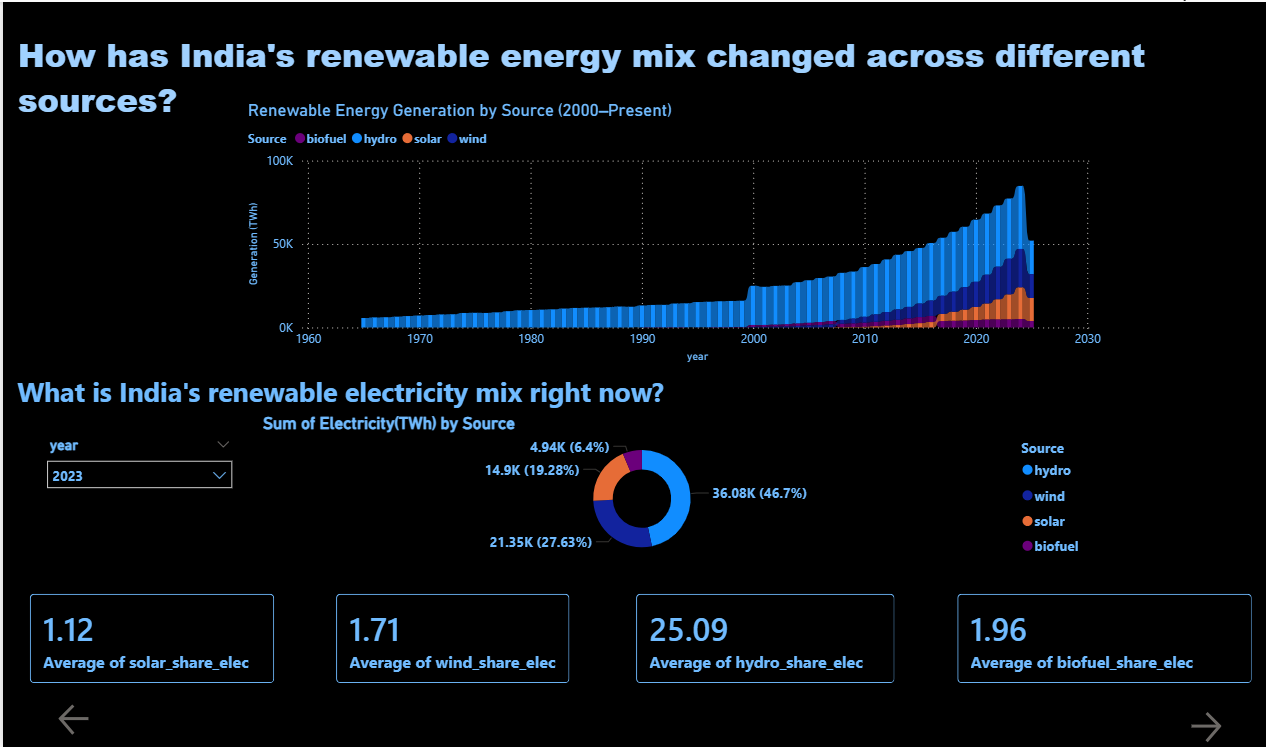

The page's visual inventory and layout, read from the dashboard file:
{"tool":"powerbi","page":{"name":"ENERGY MIX","canvas":[1280,720],"ordinal":2},"visuals":[{"type":"textbox","box":[10.3,0,1270,145.2],"z":0},{"type":"ribbonChart","title":"Renewable Energy Generation by Source (2000–Present)","fields":{"Y":["Sum(Energy Mix.Electricity)"],"Series":["Energy Mix.Source"],"Category":["Energy Mix.year"]},"box":[239.4,72.9,862.5,267.7],"z":1000},{"type":"textbox","box":[8.9,340.5,1271.4,44.6],"z":2000},{"type":"donutChart","title":"Sum of Electricity(TWh) by Source","fields":{"Y":["Sum(Energy Mix.Electricity)"],"Category":["Energy Mix.Source"]},"box":[254.3,385.1,834.2,151.7],"z":3000},{"type":"slicer","fields":{"Values":["Energy Mix.year"]},"box":[34.2,404.5,205.2,74.3],"z":4000},{"type":"cardVisual","fields":{"Data":["Avg(owid-energy-data.solar_share_elec)"]},"box":[10.4,548.7,278.1,123.4],"z":5000},{"type":"cardVisual","fields":{"Data":["Avg(owid-energy-data.wind_share_elec)"]},"box":[315.2,548.7,267.7,123.4],"z":6000},{"type":"cardVisual","fields":{"Data":["Avg(owid-energy-data.hydro_share_elec)"]},"box":[615.6,548.7,292.9,123.4],"z":7000},{"type":"cardVisual","fields":{"Data":["Avg(owid-energy-data.biofuel_share_elec)"]},"box":[936.8,548.7,328.6,123.4],"z":8000},{"type":"actionButton","box":[50.6,672.1,130.9,40.1],"z":9000},{"type":"actionButton","box":[1180.7,679.6,99.6,40.1],"z":10000}]}

Visuals, with their boxes on the page's 1280x720 design canvas (x1, y1, x2, y2). These are canvas units, not pixel positions in the 1266x747 screenshot, which may show the page scaled, cropped or inside an application window:
textbox: left=10, top=0, right=1280, bottom=145
"Renewable Energy Generation by Source (2000–Present)" ribbonChart: left=239, top=73, right=1102, bottom=341
textbox: left=9, top=340, right=1280, bottom=385
"Sum of Electricity(TWh) by Source" donutChart: left=254, top=385, right=1088, bottom=537
slicer - Energy Mix.year: left=34, top=404, right=239, bottom=479
cardVisual - Avg(owid-energy-data.solar_share_elec): left=10, top=549, right=288, bottom=672
cardVisual - Avg(owid-energy-data.wind_share_elec): left=315, top=549, right=583, bottom=672
cardVisual - Avg(owid-energy-data.hydro_share_elec): left=616, top=549, right=908, bottom=672
cardVisual - Avg(owid-energy-data.biofuel_share_elec): left=937, top=549, right=1265, bottom=672
actionButton: left=51, top=672, right=182, bottom=712
actionButton: left=1181, top=680, right=1280, bottom=720
